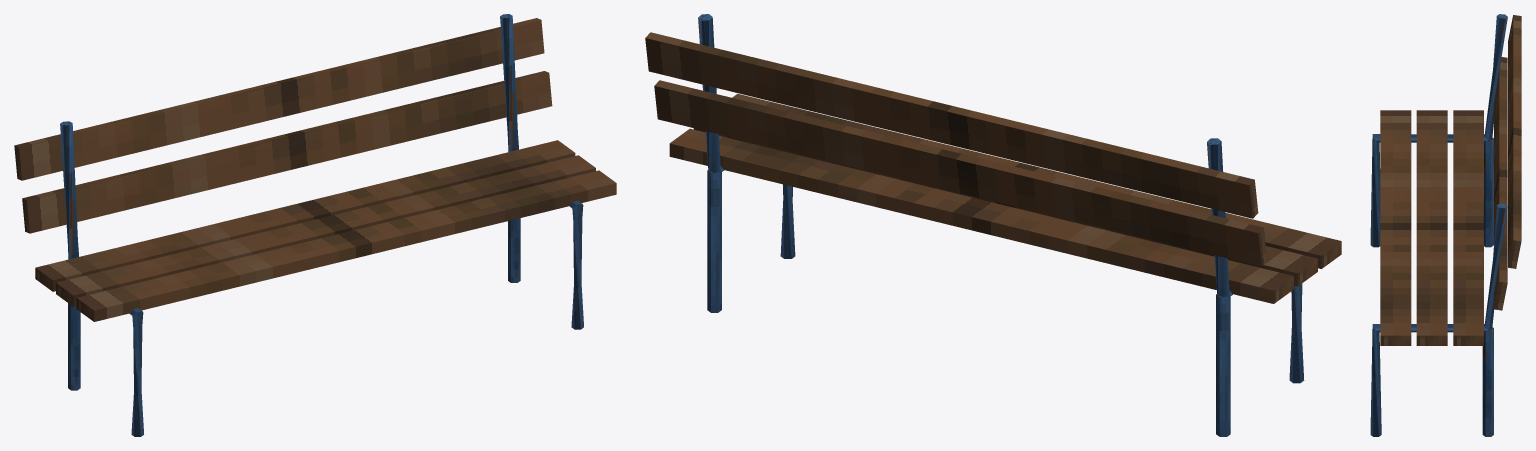
The model's file is bench_entrance.glb.
The picture shows the model from 3 angles, left to right: view 1: azimuth 30°, elevation 25°; view 2: azimuth 150°, elevation 25°; view 3: azimuth 270°, elevation 25°; orthographic projection. The views are drawn at different scales.
Visible parts, largest first — view 1: bench_entrance; view 2: bench_entrance; view 3: bench_entrance.
Part boxes in pixels (left/top/right/bottom): bench_entrance: left=14, top=14, right=616, bottom=436; bench_entrance: left=645, top=14, right=1341, bottom=436; bench_entrance: left=1370, top=14, right=1521, bottom=436.
Size of the model in its own units: 1.9 by 0.9021 by 0.5381.
1 material, 1 textured.
